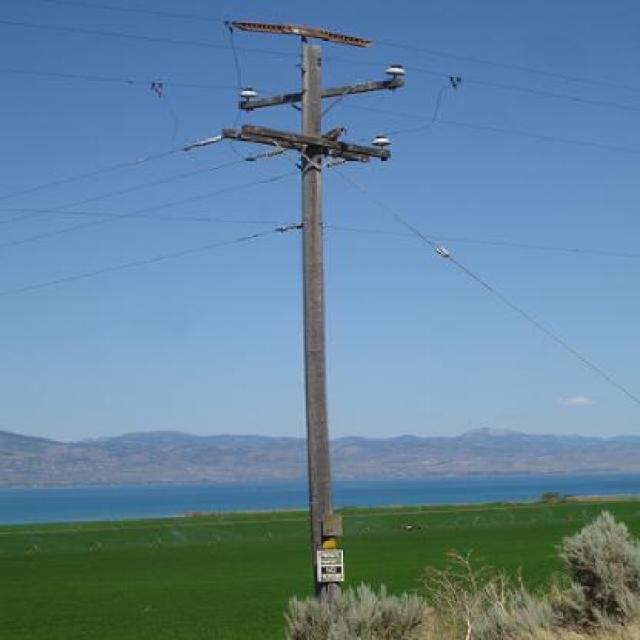pole: (214, 8, 437, 603)
